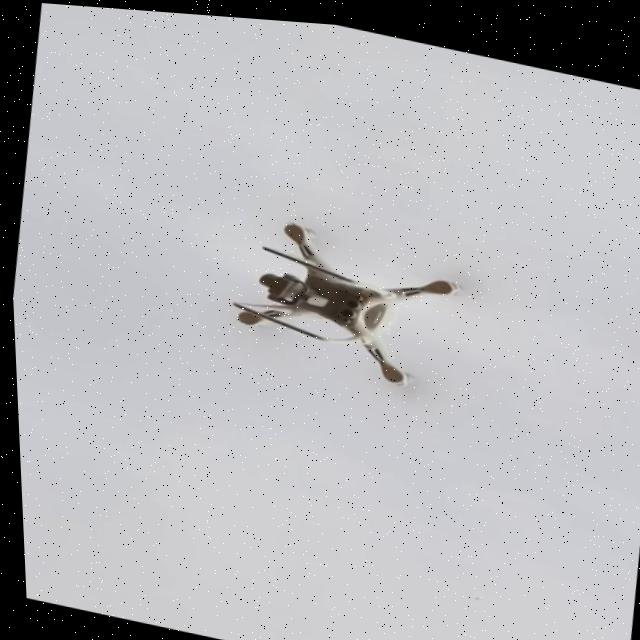drones: (180, 135, 536, 448)
